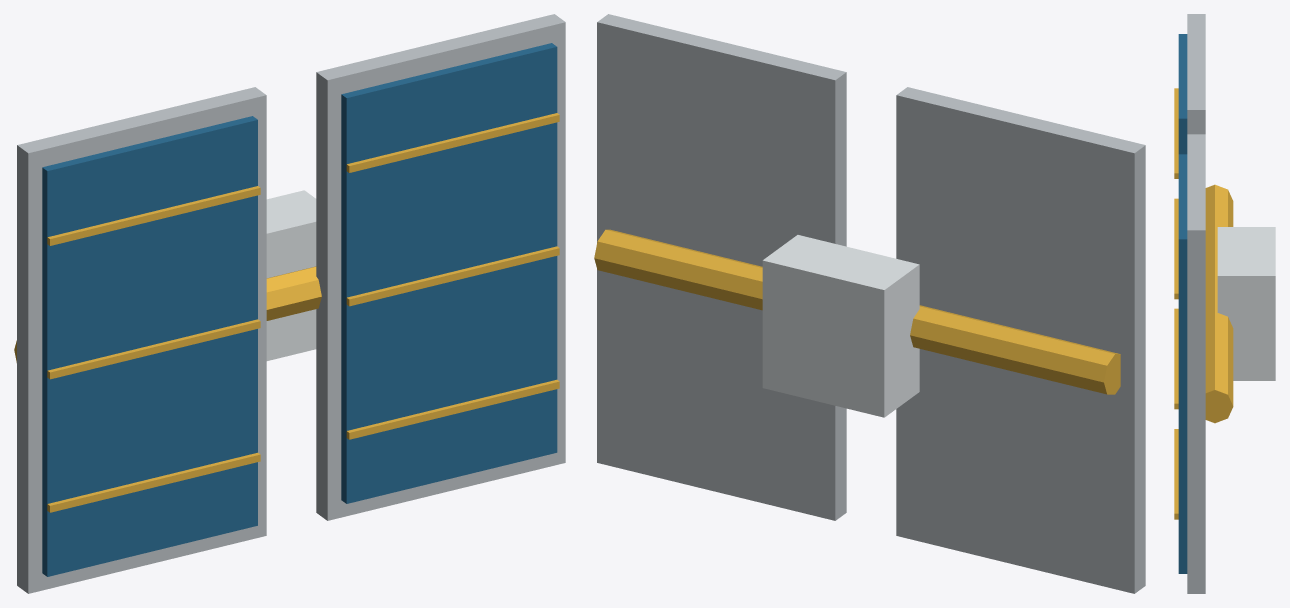
File: perilune-petal-array.glb
The picture shows the model from 3 angles, left to right: view 1: azimuth 30°, elevation 25°; view 2: azimuth 150°, elevation 25°; view 3: azimuth 270°, elevation 25°; orthographic projection. The views are drawn at different scales.
Parts seen in each view (by area): view 1: SM_Power_PetalArray_Cells_R, SM_Power_PetalArray_Cells_L, SM_Power_PetalArray_Frame_L, SM_Power_PetalArray_Frame_R, SM_Power_PetalArray_Mount, SM_Power_PetalArray_Hinge, SM_Power_PetalArray_Grid_L_01, SM_Power_PetalArray_Grid_L_02, SM_Power_PetalArray_Grid_R_02, SM_Power_PetalArray_Grid_L_03, SM_Power_PetalArray_Grid_R_01, SM_Power_PetalArray_Grid_R_03; view 2: SM_Power_PetalArray_Frame_L, SM_Power_PetalArray_Frame_R, SM_Power_PetalArray_Mount, SM_Power_PetalArray_Hinge; view 3: SM_Power_PetalArray_Frame_R, SM_Power_PetalArray_Mount, SM_Power_PetalArray_Hinge, SM_Power_PetalArray_Cells_R, SM_Power_PetalArray_Frame_L, SM_Power_PetalArray_Cells_L, SM_Power_PetalArray_Grid_L_03, SM_Power_PetalArray_Grid_R_01, SM_Power_PetalArray_Grid_R_02, SM_Power_PetalArray_Grid_R_03.
Boxes of the visible parts, x1=… form: SM_Power_PetalArray_Cells_R: x1=341, y1=43, x2=557, y2=503; SM_Power_PetalArray_Cells_L: x1=42, y1=116, x2=257, y2=576; SM_Power_PetalArray_Frame_L: x1=17, y1=87, x2=266, y2=593; SM_Power_PetalArray_Frame_R: x1=316, y1=14, x2=565, y2=520; SM_Power_PetalArray_Mount: x1=266, y1=190, x2=316, y2=360; SM_Power_PetalArray_Hinge: x1=14, y1=266, x2=321, y2=362; SM_Power_PetalArray_Grid_L_01: x1=47, y1=452, x2=260, y2=512; SM_Power_PetalArray_Grid_L_02: x1=47, y1=319, x2=260, y2=379; SM_Power_PetalArray_Grid_R_02: x1=346, y1=246, x2=559, y2=306; SM_Power_PetalArray_Grid_L_03: x1=47, y1=186, x2=260, y2=245; SM_Power_PetalArray_Grid_R_01: x1=346, y1=379, x2=559, y2=439; SM_Power_PetalArray_Grid_R_03: x1=346, y1=113, x2=559, y2=172; SM_Power_PetalArray_Frame_L: x1=896, y1=87, x2=1145, y2=593; SM_Power_PetalArray_Frame_R: x1=597, y1=14, x2=846, y2=520; SM_Power_PetalArray_Mount: x1=762, y1=235, x2=919, y2=417; SM_Power_PetalArray_Hinge: x1=594, y1=229, x2=1120, y2=394; SM_Power_PetalArray_Frame_R: x1=1187, y1=134, x2=1205, y2=593; SM_Power_PetalArray_Mount: x1=1217, y1=227, x2=1275, y2=380; SM_Power_PetalArray_Hinge: x1=1205, y1=184, x2=1233, y2=423; SM_Power_PetalArray_Cells_R: x1=1178, y1=154, x2=1187, y2=573; SM_Power_PetalArray_Frame_L: x1=1187, y1=14, x2=1205, y2=134; SM_Power_PetalArray_Cells_L: x1=1178, y1=34, x2=1187, y2=154; SM_Power_PetalArray_Grid_L_03: x1=1174, y1=88, x2=1178, y2=178; SM_Power_PetalArray_Grid_R_01: x1=1174, y1=429, x2=1178, y2=519; SM_Power_PetalArray_Grid_R_02: x1=1174, y1=319, x2=1178, y2=409; SM_Power_PetalArray_Grid_R_03: x1=1174, y1=209, x2=1178, y2=299.
Bounding box in the file's own units: 0.97 × 0.76 × 0.192.
